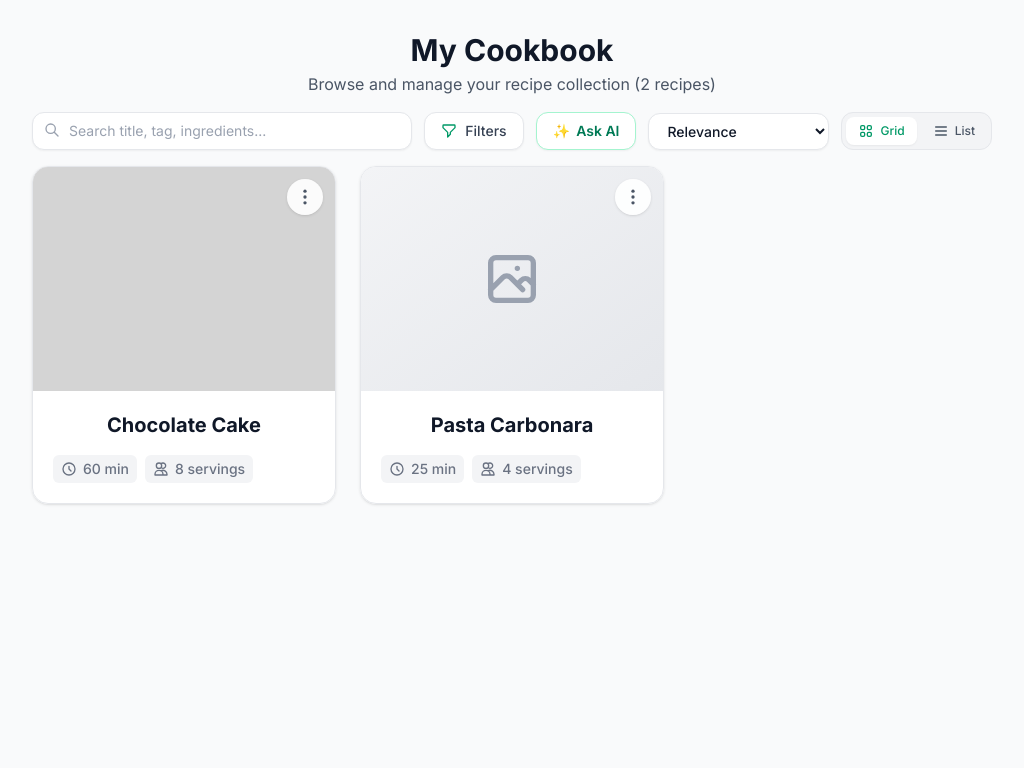
Test: RecipeLibrary › Delete Functionality › should delete recipe when confirmed
Expected: the heading "Chocolate Cake" is shown, [107,413,261,437]
Note: Open modal
Step 1. Click the button with test id "recipe-card-menu-button" → coordinates (305, 197), box [287,179,323,215]
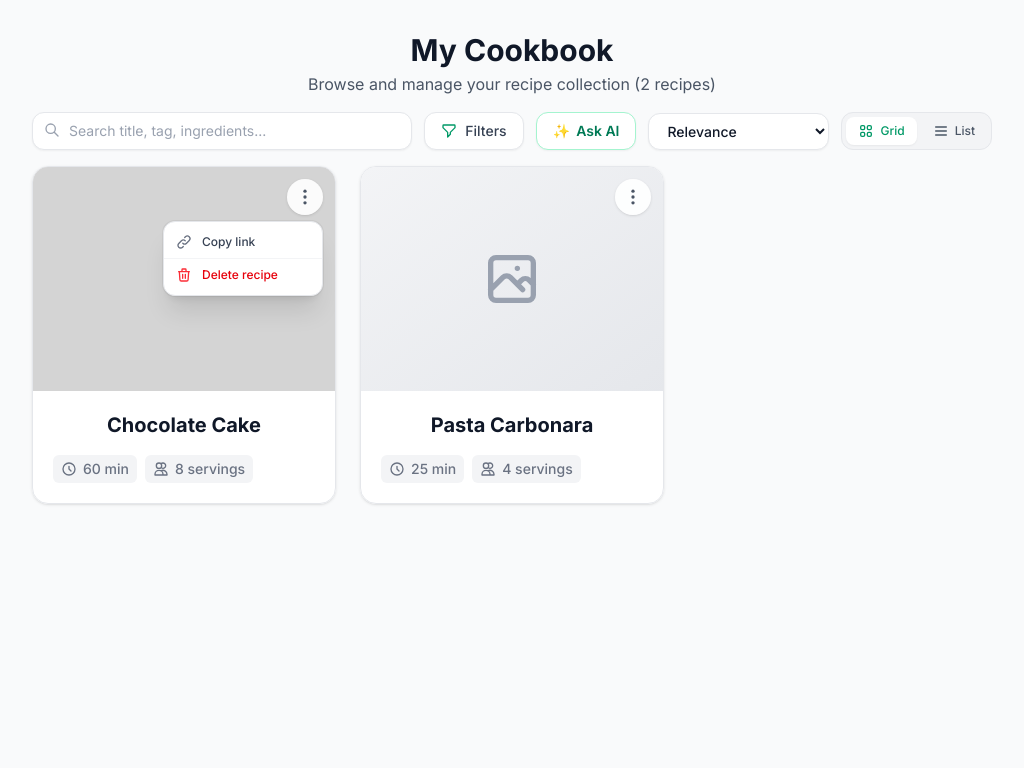
Step 2. Click the menu item "Delete recipe" → coordinates (243, 274), box [164,258,322,291]
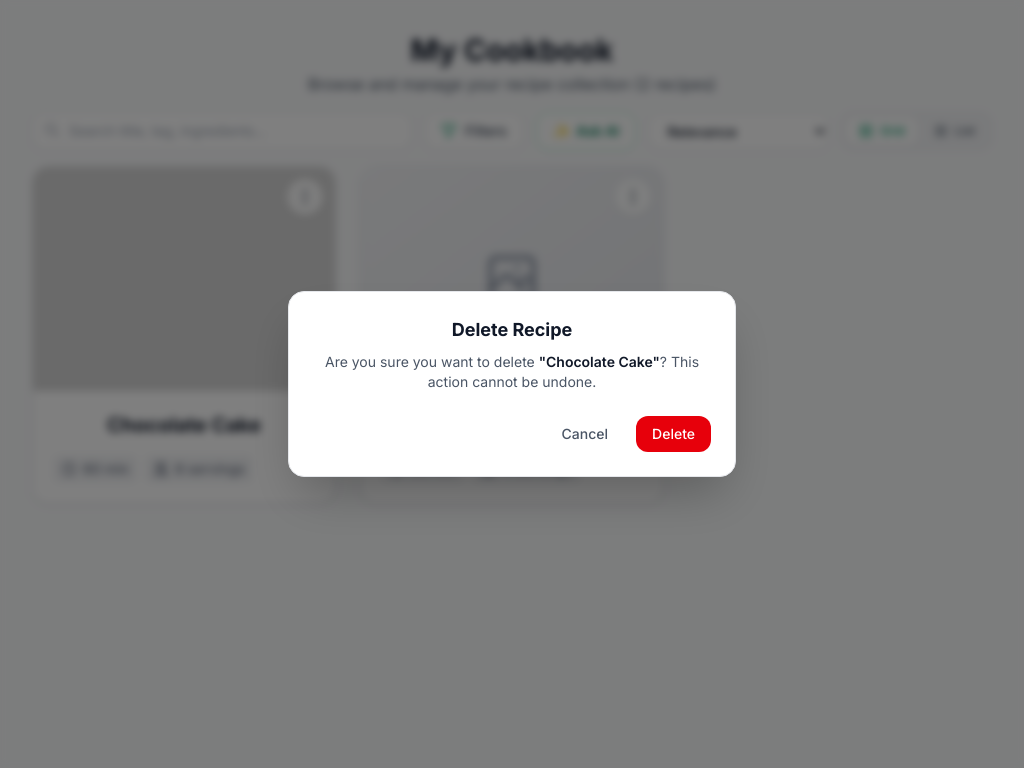
Note: Click delete
Step 3. Click the button "Delete" → coordinates (674, 434), box [636,416,711,452]
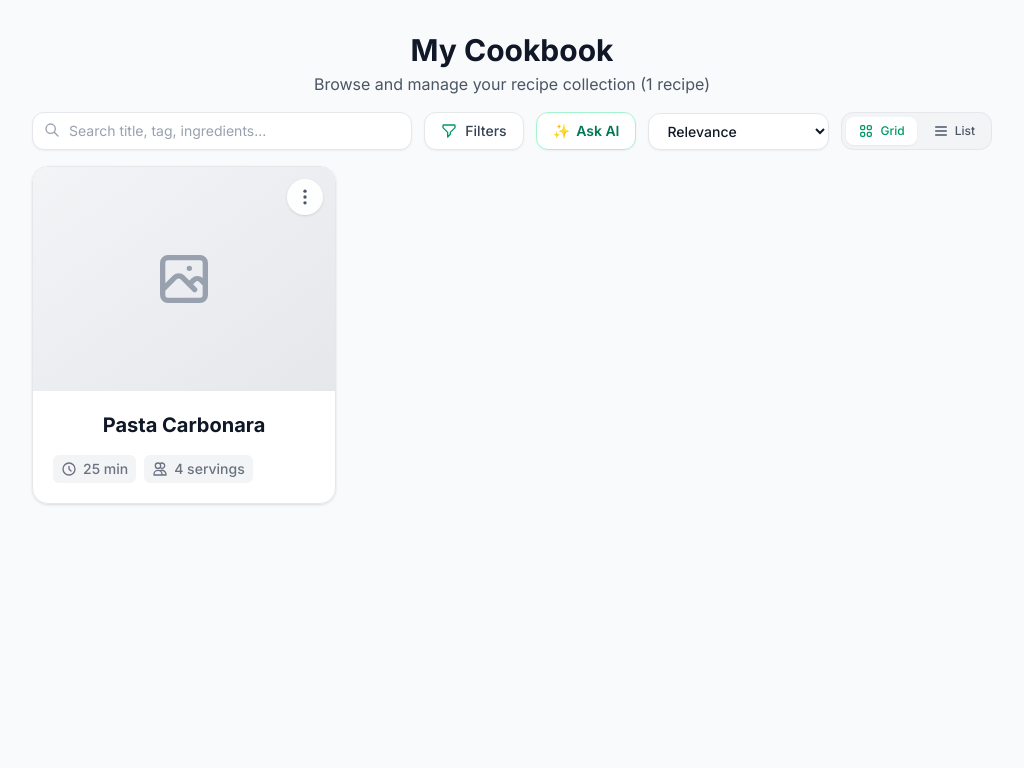
Expected: the heading "Pasta Carbonara" is shown, [103,413,265,437]
Now the button "Chocolate Cake" is gone
